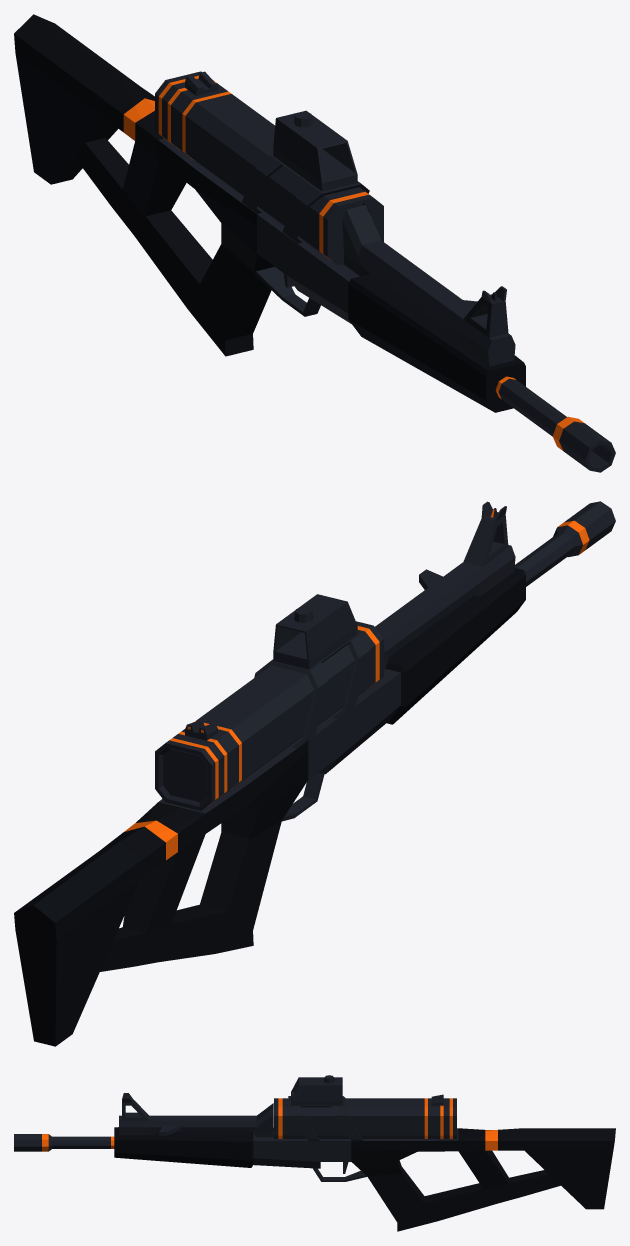
3 views of the same model, one above another, from view 1: azimuth 30°, elevation 25°; view 2: azimuth 150°, elevation 25°; view 3: azimuth 270°, elevation 25° (orthographic). The views are drawn at different scales.
Parts seen in each view (by area): view 1: M672, M672_Mag; view 2: M672, M672_Mag; view 3: M672, M672_Mag.
Boxes of the visible parts, <box> form: M672: <box>14,14,615,472</box>; M672_Mag: <box>155,71,383,265</box>; M672: <box>14,501,615,1046</box>; M672_Mag: <box>155,621,383,810</box>; M672: <box>14,1075,615,1231</box>; M672_Mag: <box>274,1094,456,1138</box>.
Size of the model in its own units: 5.45 by 21.55 by 77.86.
